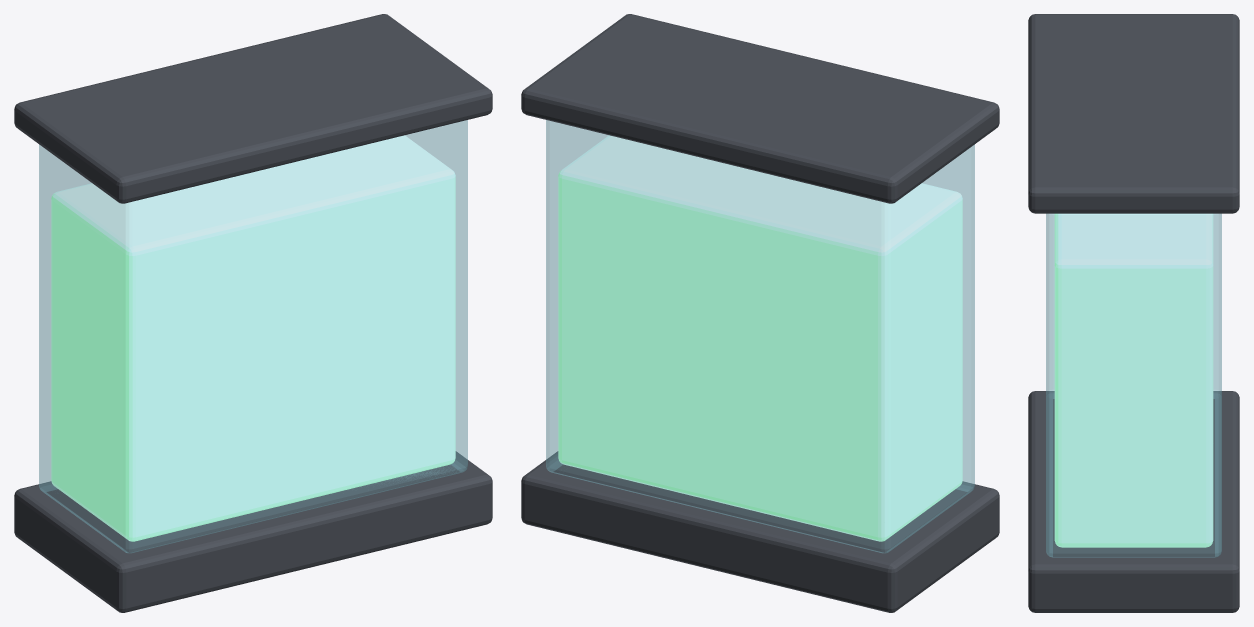
The model's file is hydroponic_bed_algae_tank.glb.
The picture shows the model from 3 angles, left to right: view 1: azimuth 30°, elevation 25°; view 2: azimuth 150°, elevation 25°; view 3: azimuth 270°, elevation 25°; orthographic projection. The views are drawn at different scales.
Visible parts, largest first — view 1: GD_hydroponic_bed_algae_tank__m1, GD_hydroponic_bed_algae_tank__m2, GD_hydroponic_bed_algae_tank__m0; view 2: GD_hydroponic_bed_algae_tank__m1, GD_hydroponic_bed_algae_tank__m2, GD_hydroponic_bed_algae_tank__m0; view 3: GD_hydroponic_bed_algae_tank__m0, GD_hydroponic_bed_algae_tank__m1, GD_hydroponic_bed_algae_tank__m2.
Boxes of the visible parts, x1=… form: GD_hydroponic_bed_algae_tank__m1: x1=39, y1=120, x2=467, y2=553; GD_hydroponic_bed_algae_tank__m2: x1=51, y1=135, x2=455, y2=541; GD_hydroponic_bed_algae_tank__m0: x1=14, y1=14, x2=492, y2=612; GD_hydroponic_bed_algae_tank__m1: x1=546, y1=120, x2=974, y2=553; GD_hydroponic_bed_algae_tank__m2: x1=558, y1=135, x2=962, y2=541; GD_hydroponic_bed_algae_tank__m0: x1=521, y1=14, x2=999, y2=612; GD_hydroponic_bed_algae_tank__m0: x1=1028, y1=14, x2=1239, y2=612; GD_hydroponic_bed_algae_tank__m1: x1=1046, y1=213, x2=1221, y2=557; GD_hydroponic_bed_algae_tank__m2: x1=1054, y1=213, x2=1213, y2=547.
Size of the model in its own units: 1.2 by 1.33 by 0.6.
